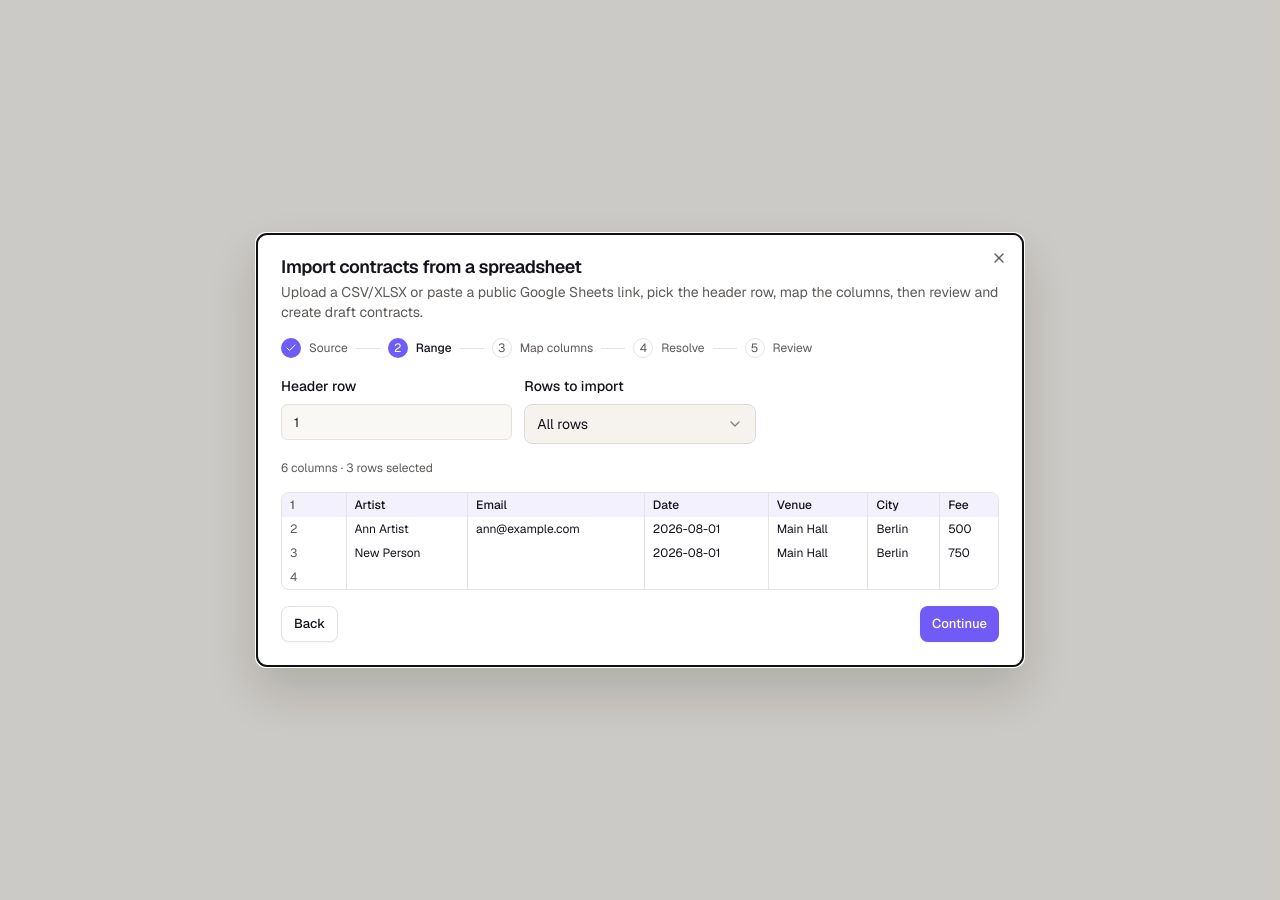
HireOrderImportDialog › prefills the Map step from guessOrderMapping and lets the user override a field
This screenshot has width=1280, height=900.
Earlier steps of the test are not shown.
Expected: the number field labelled "Header row" is shown, [281, 404, 512, 440]
Step 1. Click the button "Continue" → (960, 624), box [920, 606, 999, 642]
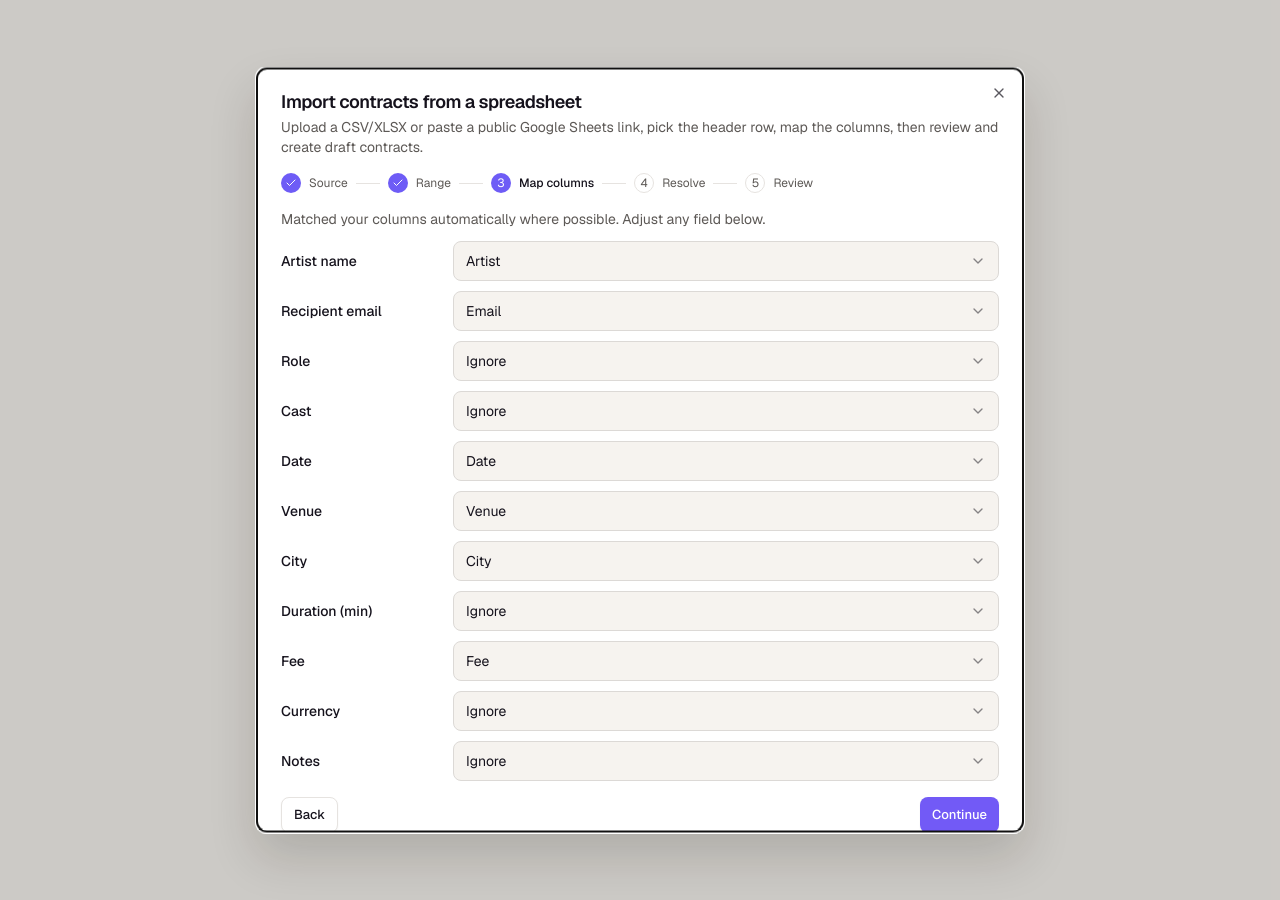
Expected: the text "Artist" is shown, [466, 250, 501, 270]
Expected: the text "Fee" is shown, [466, 650, 489, 670]
Step 2. Click the dropdown named "fee column" → (478, 660), box [453, 640, 999, 680]
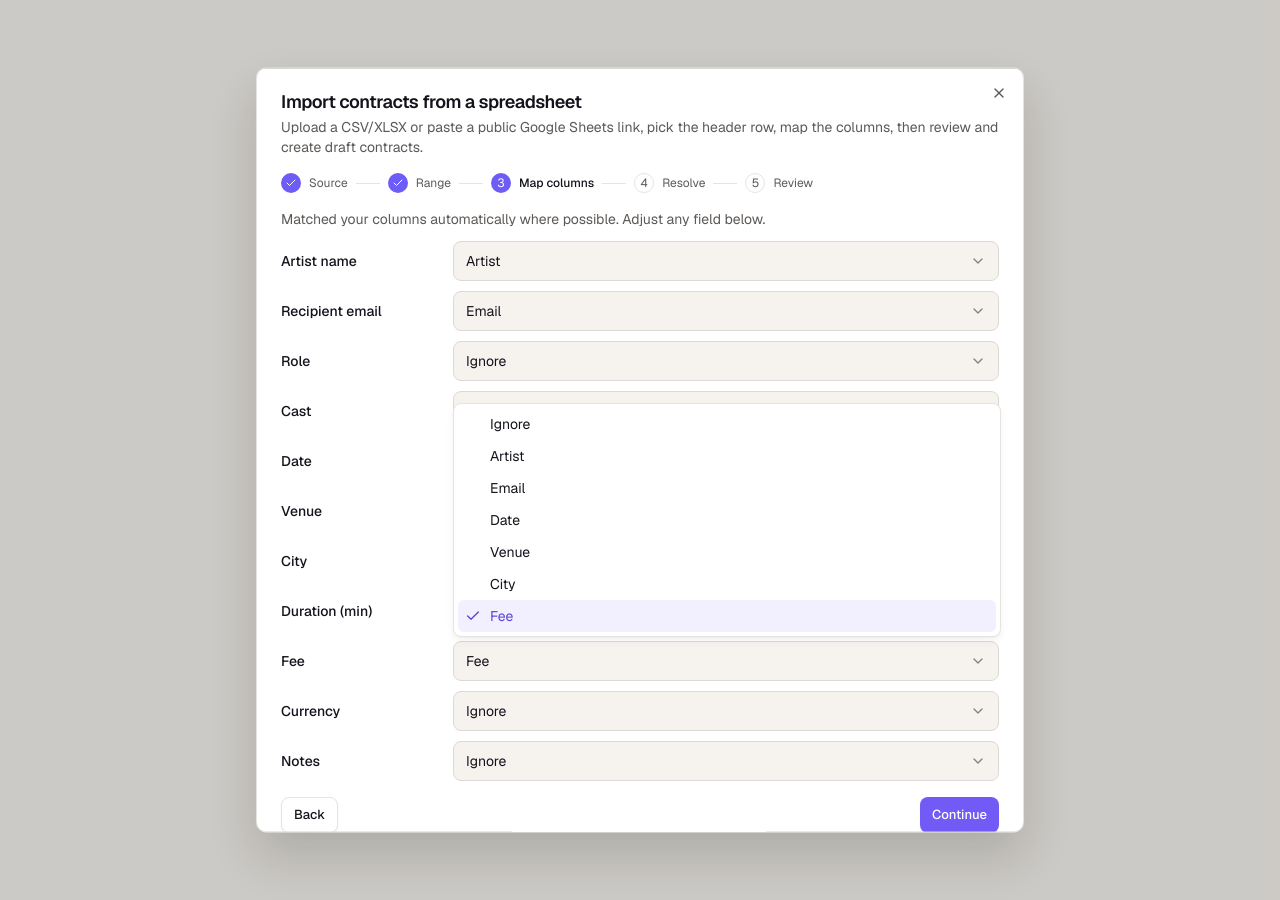
Step 3. Click the option "City" → (503, 584), box [490, 575, 516, 593]
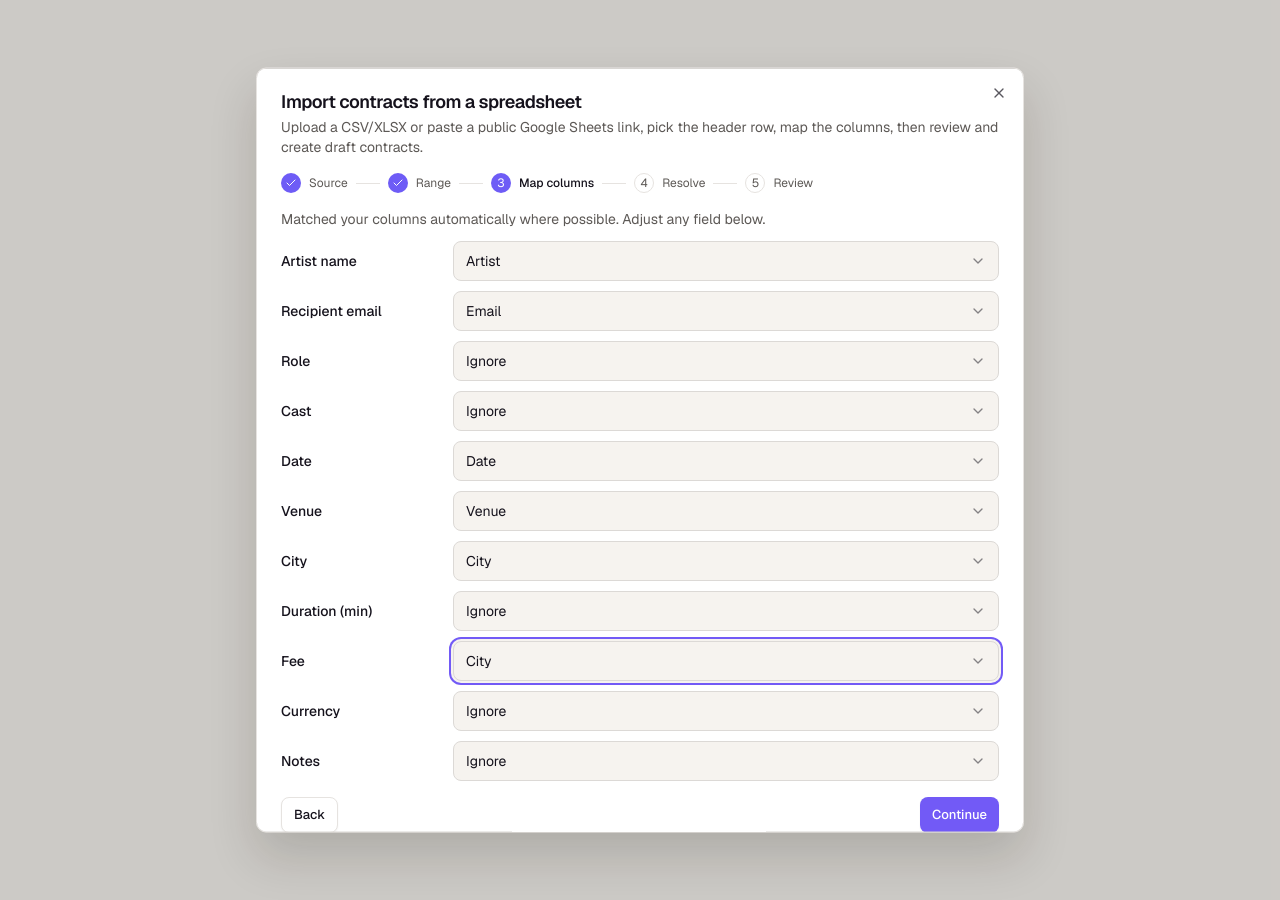
Expected: the text "City" in the row of "Fee" is shown, [466, 652, 492, 670]
